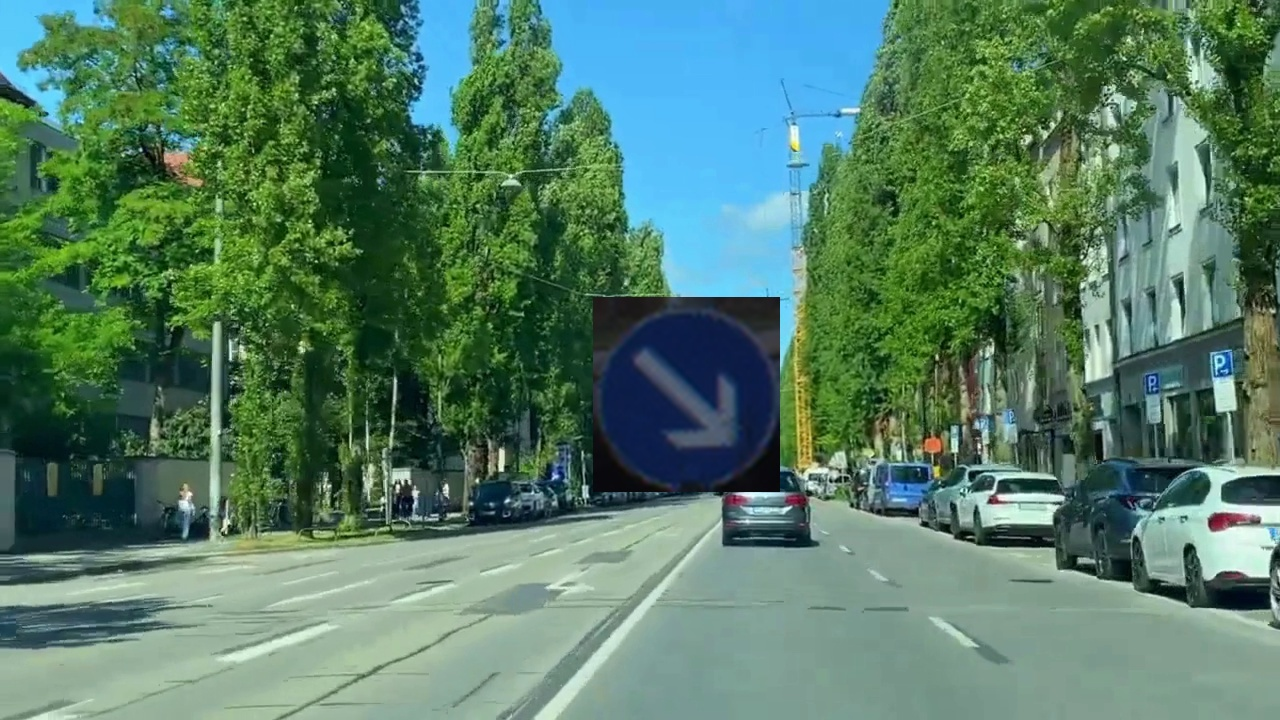Keep right: (593, 297, 780, 492)
